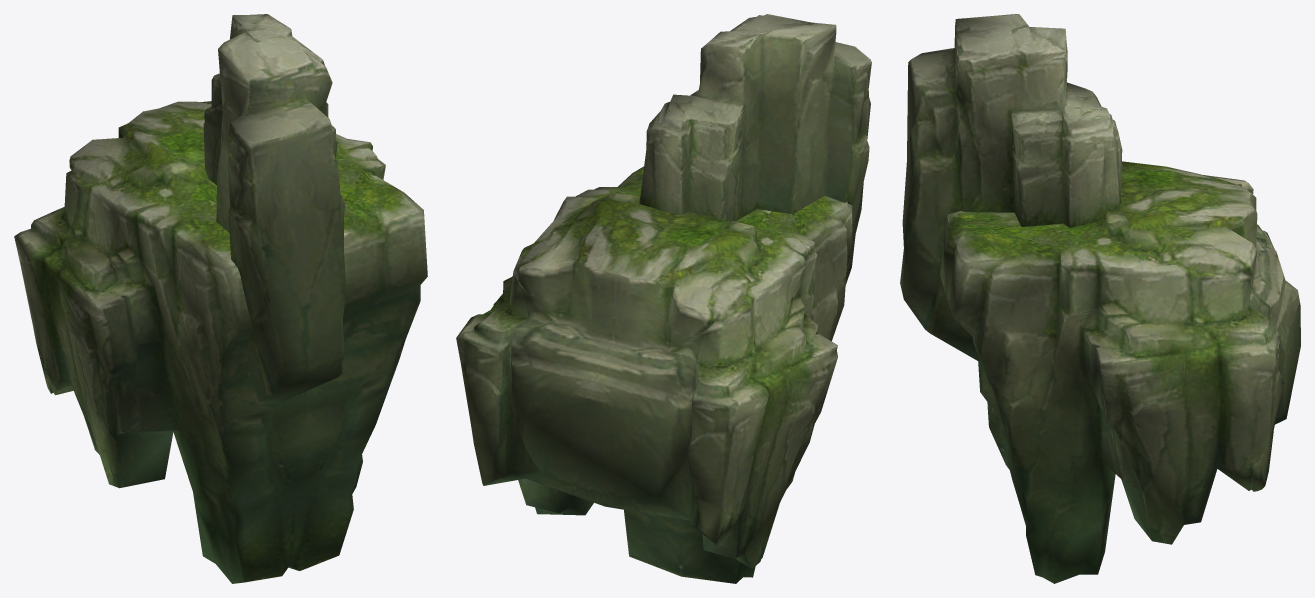
The model's file is S_Rock_Green055.FBX.
3 renders of one model, left to right at view 1: azimuth 30°, elevation 25°; view 2: azimuth 150°, elevation 25°; view 3: azimuth 270°, elevation 25°, orthographic. The views are drawn at different scales.
Parts seen in each view (by area): view 1: S_Rock_Green055; view 2: S_Rock_Green055; view 3: S_Rock_Green055.
Part boxes in pixels (x1,y1,x2,y2): S_Rock_Green055: (14,14,427,583); S_Rock_Green055: (456,14,871,583); S_Rock_Green055: (900,14,1300,583).
Bounding box in the file's own units: 1141 × 1866 × 1310.
